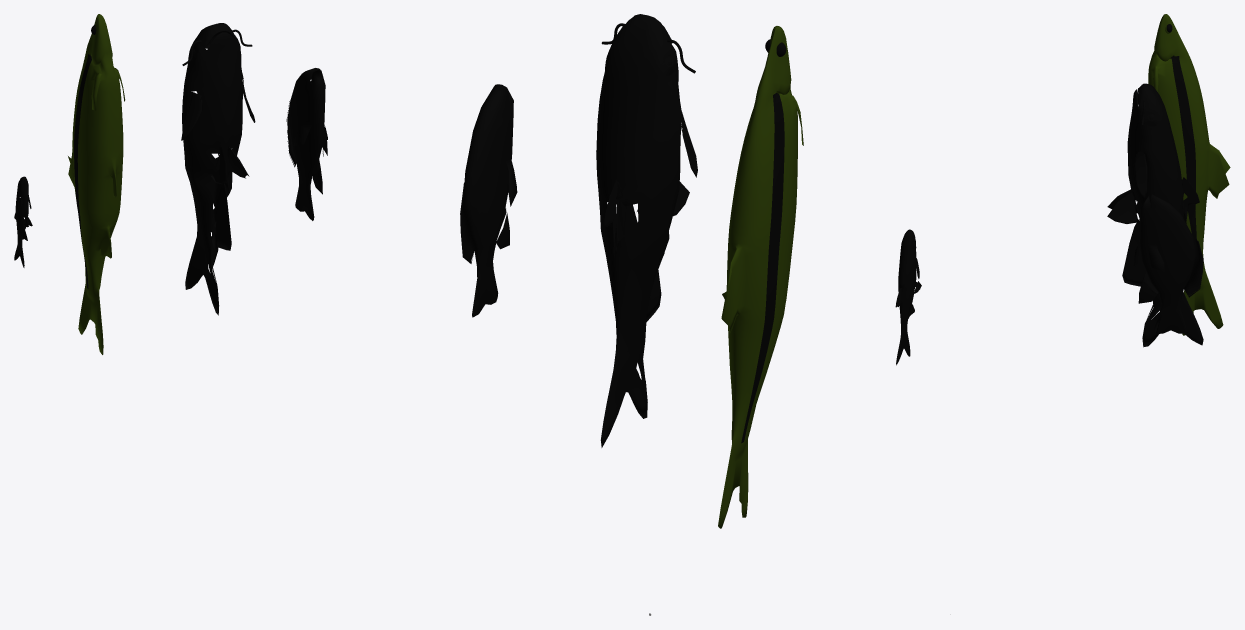
File: asset.glb
3 renders of one model, left to right at view 1: azimuth 30°, elevation 25°; view 2: azimuth 150°, elevation 25°; view 3: azimuth 270°, elevation 25°, orthographic. The views are drawn at different scales.
Visible parts, largest first — view 1: group11 catfish:Ammocrypta_pellucida__Eastern_Sand_Darter:po, group11 pasted__RuddFBXASC045Fish, group11 Bluegill, group11 Hybopsis_amblops__Bigeye_Chub:pasted__polySurface1; view 2: group11 catfish:Ammocrypta_pellucida__Eastern_Sand_Darter:po, group11 pasted__RuddFBXASC045Fish, group11 Bluegill, group11 Hybopsis_amblops__Bigeye_Chub:pasted__polySurface1; view 3: group11 pasted__RuddFBXASC045Fish, group11 catfish:Ammocrypta_pellucida__Eastern_Sand_Darter:po, group11 Bluegill.
Boxes of the visible parts, x1,y1,x2,y2 form: group11 catfish:Ammocrypta_pellucida__Eastern_Sand_Darter:po: (181,23,255,315); group11 pasted__RuddFBXASC045Fish: (68,14,125,354); group11 Bluegill: (286,68,327,220); group11 Hybopsis_amblops__Bigeye_Chub:pasted__polySurface1: (14,176,32,267); group11 catfish:Ammocrypta_pellucida__Eastern_Sand_Darter:po: (596,14,697,447); group11 pasted__RuddFBXASC045Fish: (718,26,803,528); group11 Bluegill: (460,84,517,317); group11 Hybopsis_amblops__Bigeye_Chub:pasted__polySurface1: (895,229,921,365); group11 pasted__RuddFBXASC045Fish: (1148,14,1230,335); group11 catfish:Ammocrypta_pellucida__Eastern_Sand_Darter:po: (1107,83,1203,347); group11 Bluegill: (1133,194,1203,333).
Bounding box in the file's own units: 42.18 × 72.3 × 36.09.
